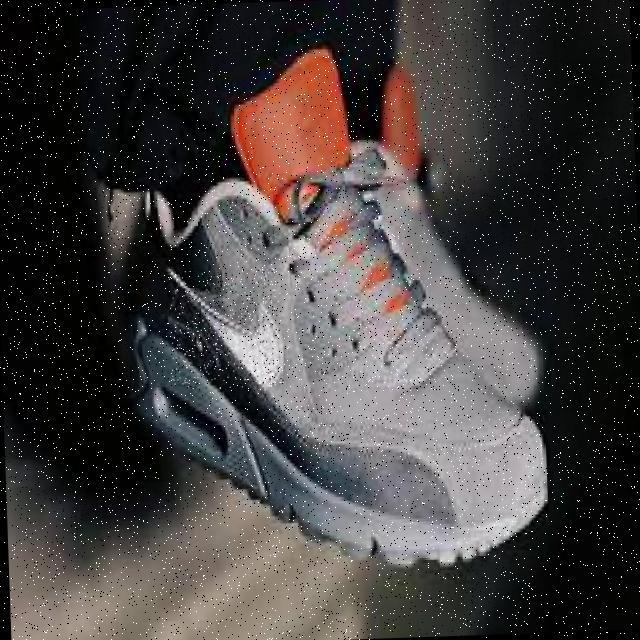Nike: (168, 268, 283, 391)
